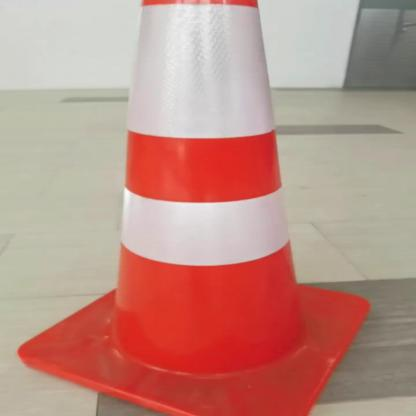cone: (8, 0, 385, 416)
